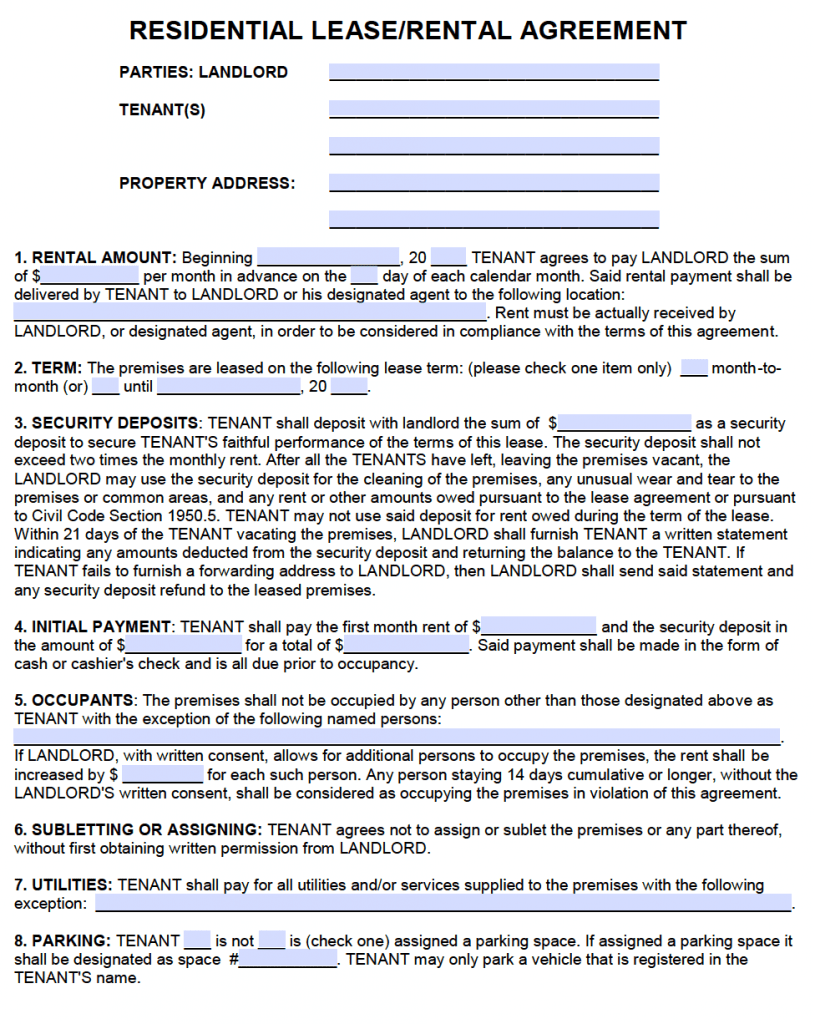textline: (12, 725, 782, 749), (95, 892, 793, 915), (13, 298, 489, 323), (326, 133, 662, 157), (328, 170, 663, 194), (329, 59, 663, 81), (328, 99, 662, 120), (254, 244, 402, 268), (156, 374, 302, 397), (557, 411, 696, 435), (479, 613, 599, 639), (123, 630, 243, 656), (342, 633, 471, 656), (37, 263, 143, 287), (238, 948, 337, 970), (121, 761, 206, 785), (326, 374, 371, 398), (430, 244, 469, 270), (347, 262, 382, 287), (181, 928, 214, 952), (678, 357, 710, 380), (90, 373, 120, 397), (259, 928, 288, 952)
